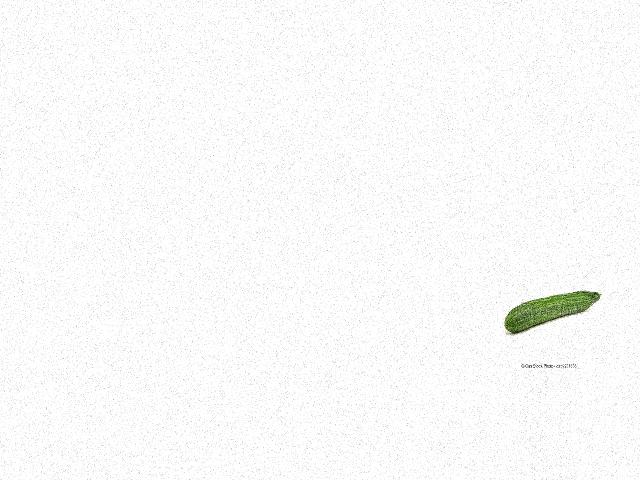cucumber: (505, 291, 602, 333)
